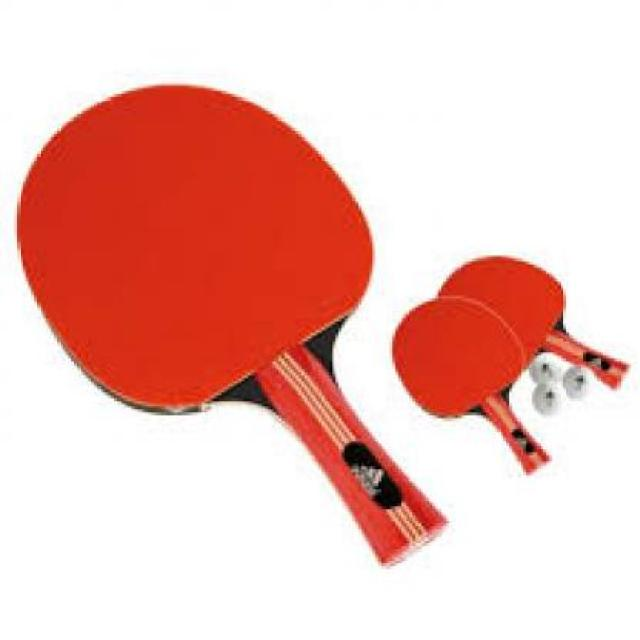table_tennis_racket: (15, 80, 380, 418), (378, 292, 528, 422), (445, 238, 569, 358)
